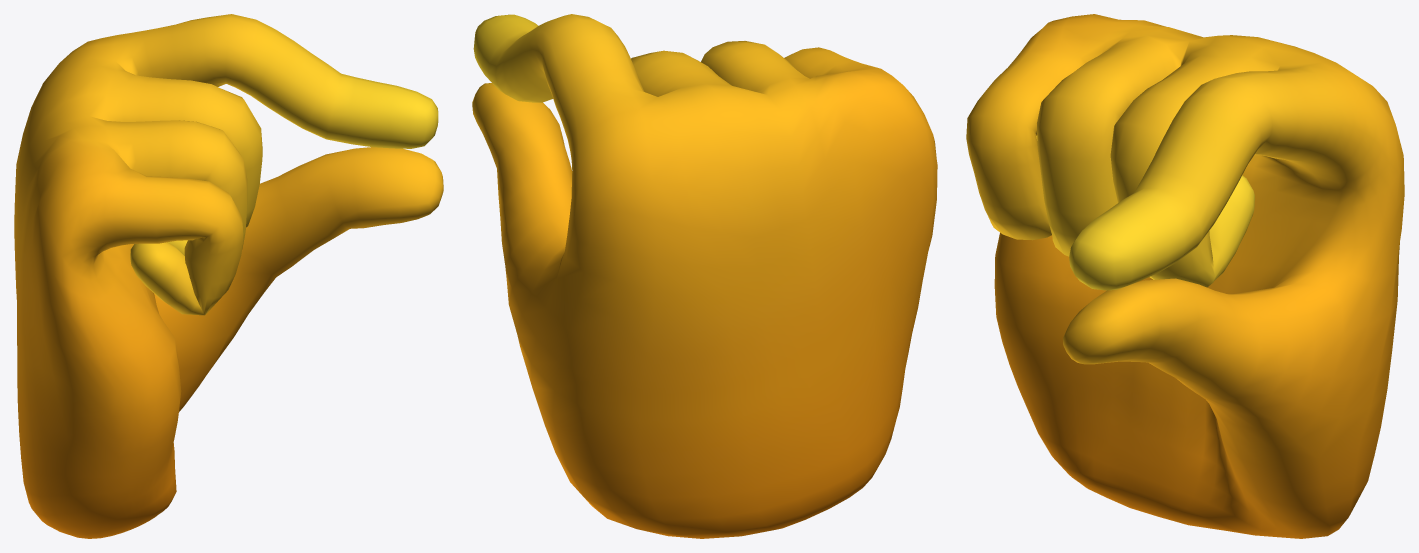
Rendered from pinching_hand.glb.
3 views of the same model, side by side, from view 1: azimuth 30°, elevation 25°; view 2: azimuth 150°, elevation 25°; view 3: azimuth 270°, elevation 25° (orthographic). The views are drawn at different scales.
Visible parts, largest first — view 1: hand.007; view 2: hand.007; view 3: hand.007.
Boxes of the visible parts, bbox=[...] form: hand.007: bbox=[14, 14, 443, 538]; hand.007: bbox=[472, 14, 937, 538]; hand.007: bbox=[966, 14, 1404, 538].
Size of the model in its own units: 1.58 by 1.63 by 1.25.
2 materials, 2 textured.
